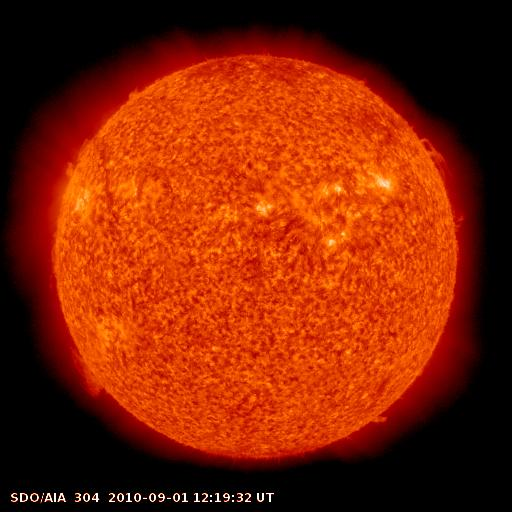prominence: (63, 338, 110, 404), (53, 130, 104, 185), (416, 122, 456, 186), (360, 398, 395, 438), (118, 78, 154, 116)
